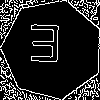E: (27, 24, 63, 72)
